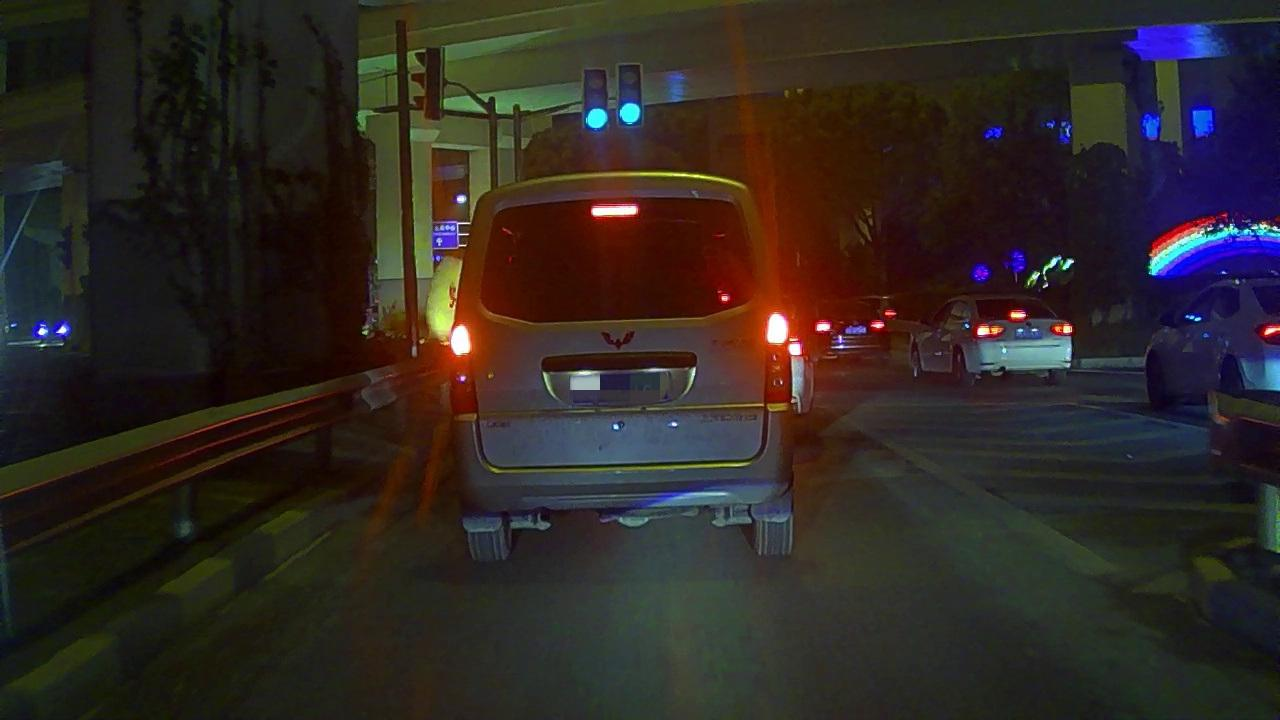traffic_light: (617, 64, 641, 128), (585, 67, 607, 130)
